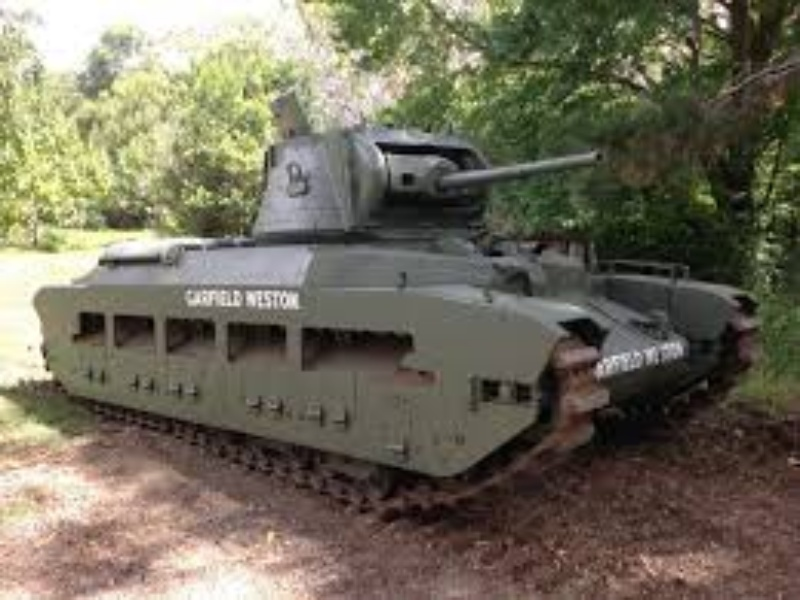tank: (30, 132, 771, 523)
